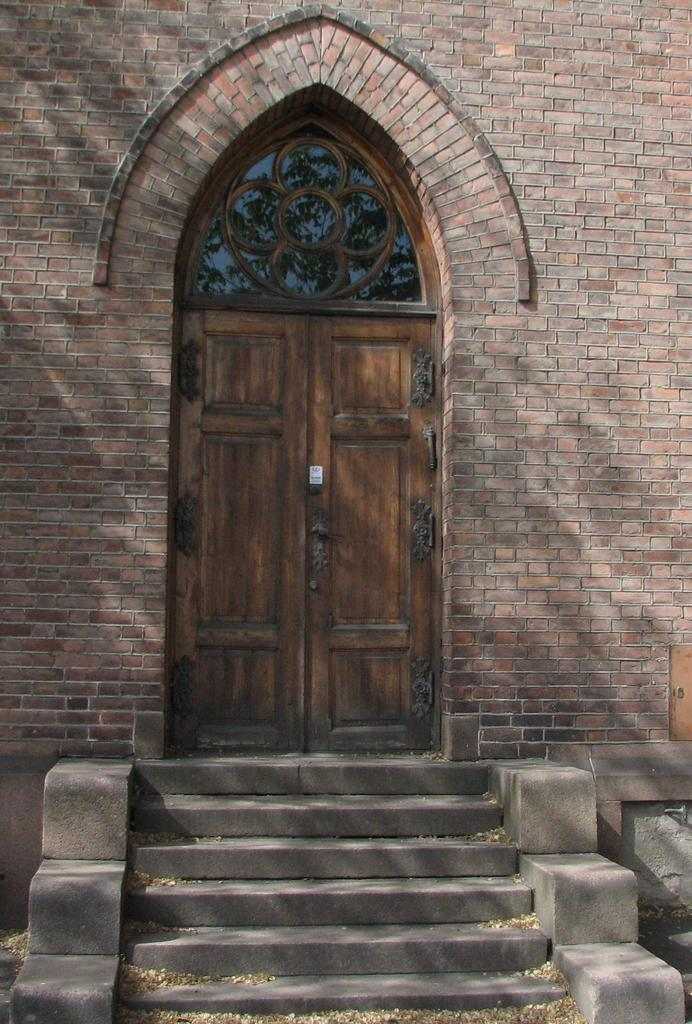door: (185, 320, 307, 725), (312, 320, 426, 747)
handle: (311, 526, 330, 550)
